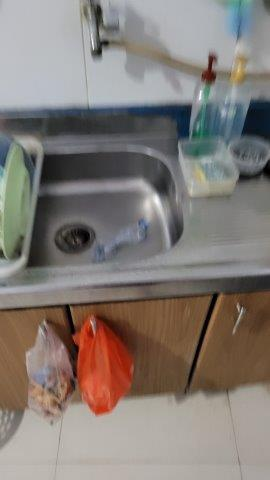botolplastik: (94, 220, 154, 262)
plastik: (82, 326, 124, 407), (33, 329, 65, 420)
